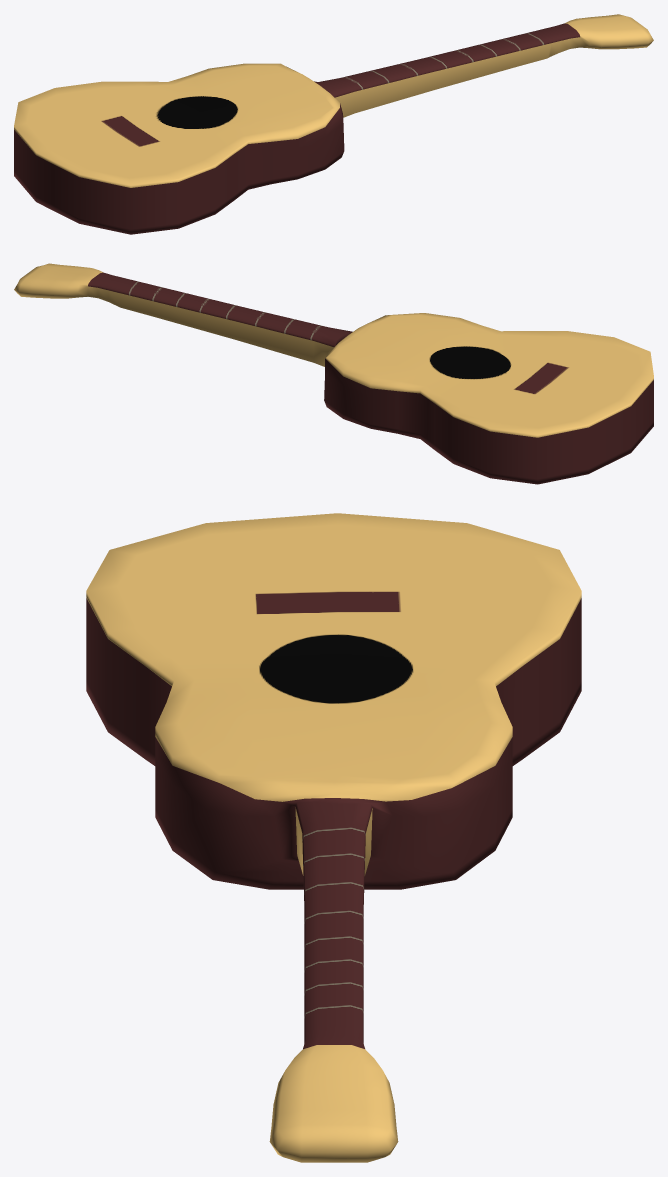
Rendered from Violao.fbx.
The picture shows the model from 3 angles, top to bottom: view 1: azimuth 30°, elevation 25°; view 2: azimuth 150°, elevation 25°; view 3: azimuth 270°, elevation 25°; orthographic projection. The views are drawn at different scales.
Parts seen in each view (by area): view 1: pCube1; view 2: pCube1; view 3: pCube1.
Part boxes in pixels (left/top/right/bottom): pCube1: left=14, top=14, right=653, bottom=234; pCube1: left=14, top=263, right=653, bottom=484; pCube1: left=86, top=513, right=581, bottom=1162.
Bounding box in the file's own units: 8.78 × 0.7702 × 3.12.
